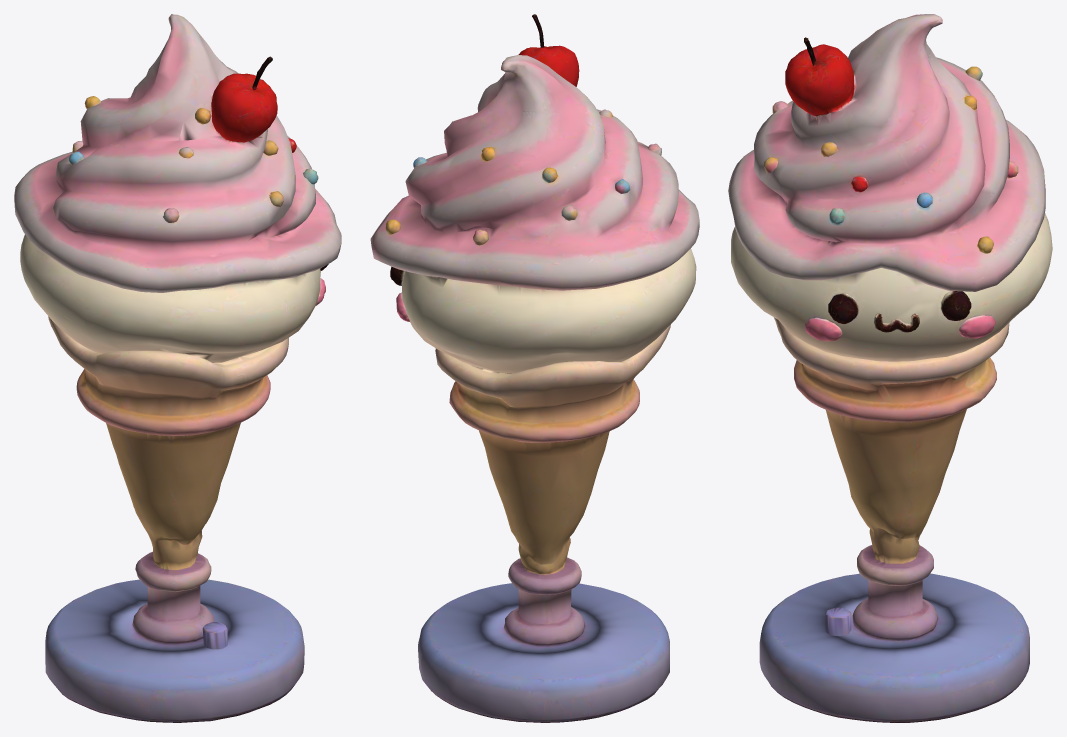
File: icecream-lamp.glb
3 views of the same model, side by side, from view 1: azimuth 30°, elevation 25°; view 2: azimuth 150°, elevation 25°; view 3: azimuth 270°, elevation 25° (orthographic). The views are drawn at different scales.
Parts seen in each view (by area): view 1: tripo_node_d8b98c10-f050-46dc-90d6-185b7e38a013; view 2: tripo_node_d8b98c10-f050-46dc-90d6-185b7e38a013; view 3: tripo_node_d8b98c10-f050-46dc-90d6-185b7e38a013.
Boxes of the visible parts, x1,y1,x2,y2 form: tripo_node_d8b98c10-f050-46dc-90d6-185b7e38a013: (14,14,341,722); tripo_node_d8b98c10-f050-46dc-90d6-185b7e38a013: (370,14,699,722); tripo_node_d8b98c10-f050-46dc-90d6-185b7e38a013: (728,14,1052,722).
Size of the model in its own units: 0.459 by 0.998 by 0.4434.
1 material, 1 textured.
